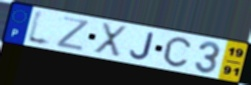3: (193, 41, 221, 75)
C: (162, 36, 193, 69)
J: (128, 31, 155, 61)
L: (25, 8, 54, 50)
X: (92, 21, 129, 60)
Z: (54, 15, 92, 52)
